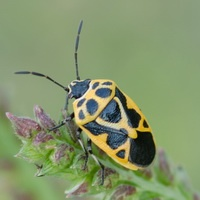insect: (10, 21, 155, 184)
